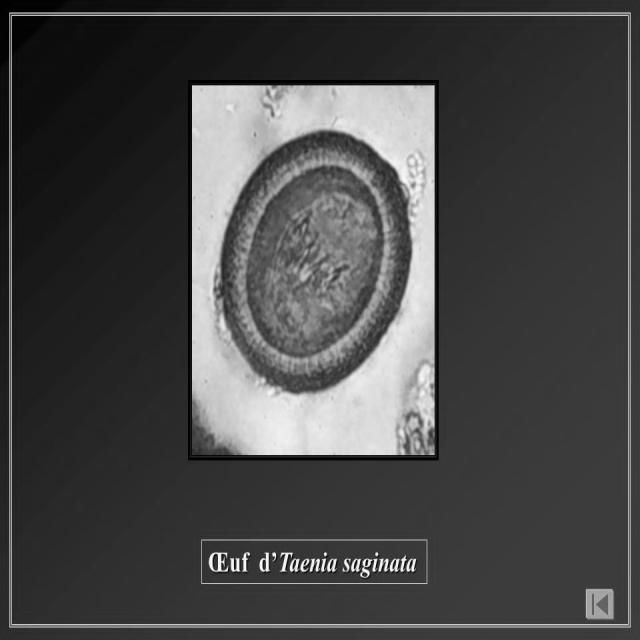Taenia Sp: (213, 118, 413, 404)
